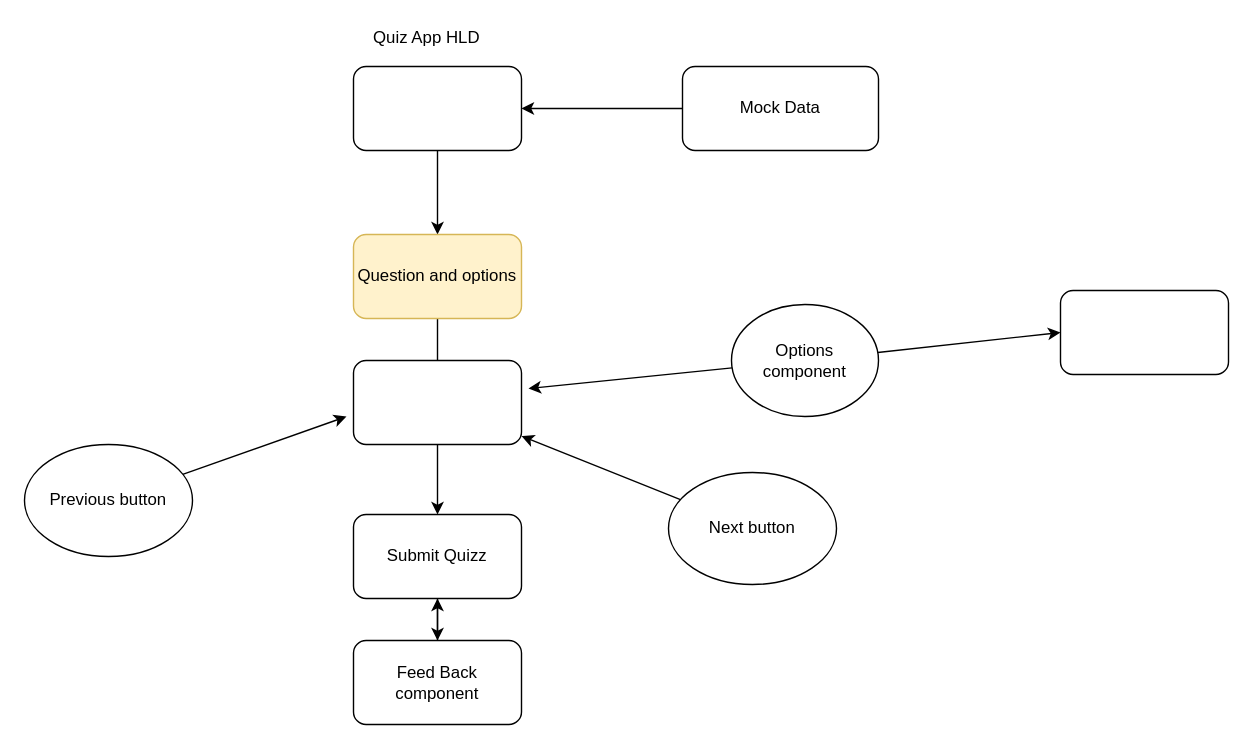
This 1253x749 diagram has some shape labels left out. The centre of each missing label's shape, as x and y in pixels:
Option(Button): [1143,331]
Question card: [437,401]
Root component (Parent): [437,107]
